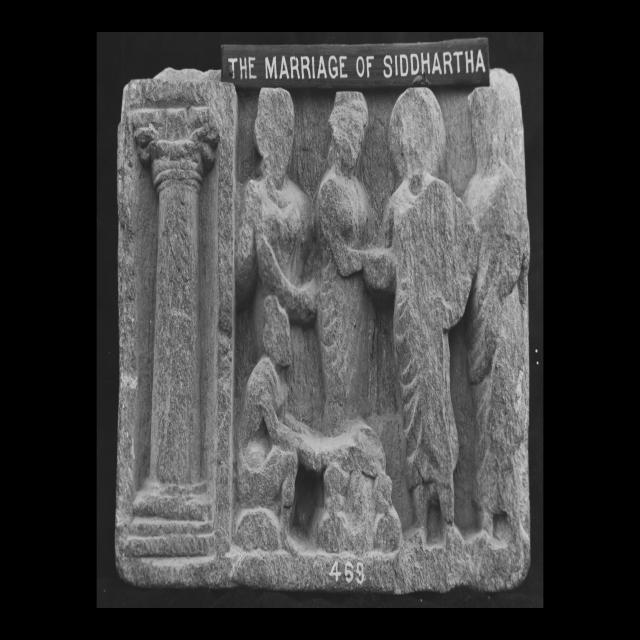buddha-standing: (385, 87, 477, 531)
